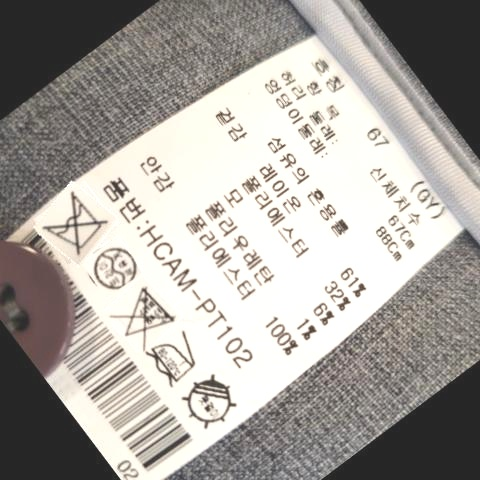DN_bleach: (121, 288, 173, 342)
DN_wash: (51, 188, 106, 252)
dry_clean_petrol_only: (96, 243, 139, 291)
iron_low: (148, 329, 200, 383)
line_dry_in_shade: (184, 374, 234, 431)
